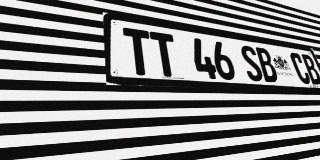4: (189, 37, 218, 79)
6: (209, 40, 237, 80)
B: (254, 47, 280, 82), (300, 54, 320, 85)
C: (288, 52, 312, 84)
S: (238, 45, 265, 82)
T: (123, 27, 155, 76), (149, 31, 180, 77)
